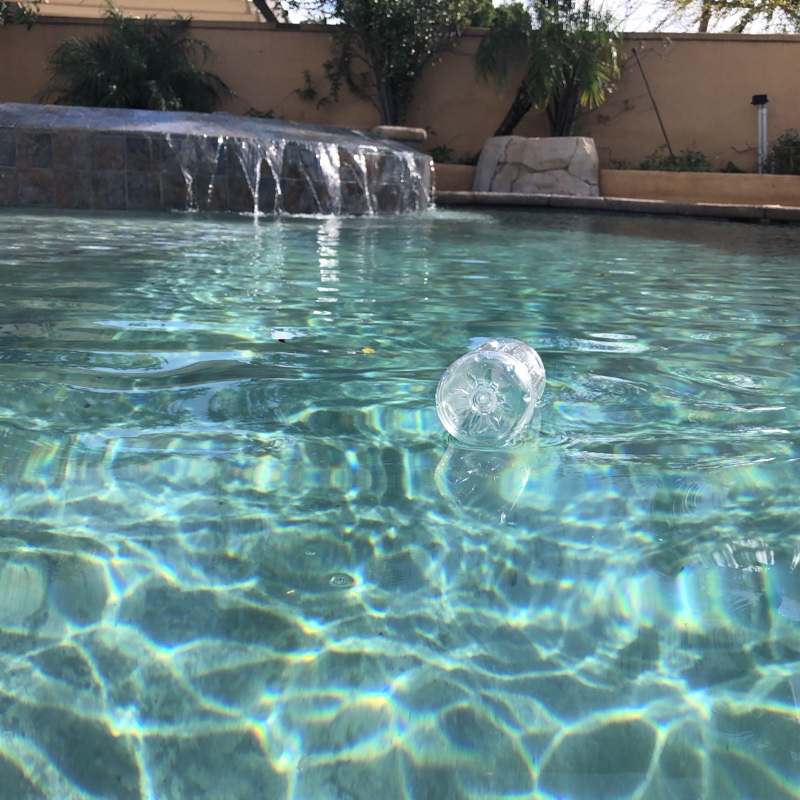Plastic Bottle: (429, 335, 552, 454)
